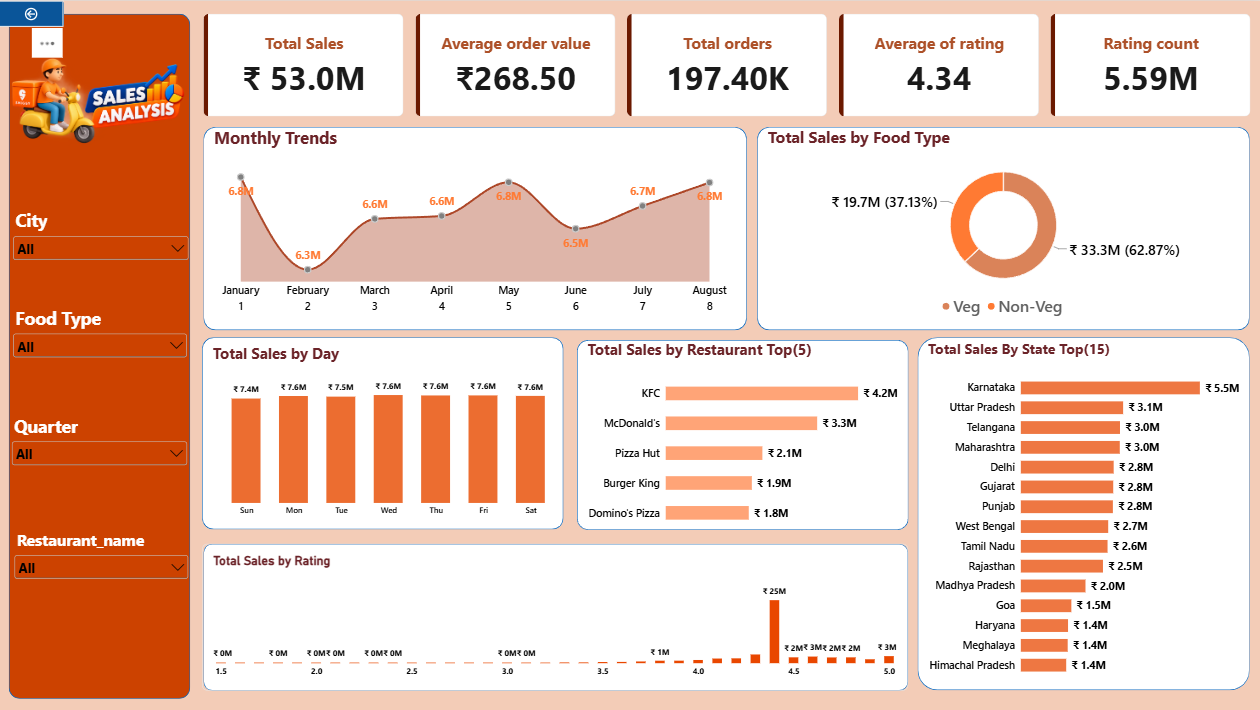

The dashboard page shown, as its layout file describes it:
{"tool":"powerbi","page":{"name":"Page 1","canvas":[1920,1080],"ordinal":0},"visuals":[{"type":"shape","box":[1154,191.4,749.1,309.2],"z":0},{"type":"shape","box":[16.5,20.6,275.8,1041.5],"z":1000},{"type":"cardVisual","fields":{"Data":["fact_swiggy_orders.Total Sales","fact_swiggy_orders.Average order value","fact_swiggy_orders.Total orders","Avg(fact_swiggy_orders.rating)","fact_swiggy_orders.Rating count"]},"box":[311,20.2,1592,156.4],"z":2000},{"type":"shape","box":[311,191.4,826.4,309.2],"z":3000},{"type":"areaChart","title":"Monthly Trends","fields":{"Category":["dim_date.month","dim_date.month_name"],"Y":["fact_swiggy_orders.Total Sales"]},"box":[311,176.7,826.4,323.9],"z":4000},{"type":"donutChart","title":" Total Sales by Food Type","fields":{"Category":["dim_dish.Total Sales by Food Type"],"Y":["fact_swiggy_orders.Total Sales"]},"box":[1154,176.7,749.1,323.9],"z":5000},{"type":"shape","box":[310.8,512.5,549.6,292.3],"z":6000},{"type":"actionButton","box":[0,0,100,40],"z":7000},{"type":"columnChart","title":"Total Sales by Day","fields":{"Category":["dim_date.day"],"Y":["fact_swiggy_orders.Total Sales"]},"box":[310.8,506.3,568.1,298.5],"z":7001},{"type":"shape","box":[879.8,515.3,504.3,289],"z":7002},{"type":"clusteredBarChart","title":"Total Sales by Restaurant Top(5)","fields":{"Category":["dim_restaurant.restaurant_name"],"Y":["fact_swiggy_orders.Total Sales"]},"box":[880,500,503.3,325],"z":7003},{"type":"shape","box":[1398.3,511.7,505,536.7],"z":7004},{"type":"clusteredBarChart","title":"Total Sales By State Top(15)","fields":{"Category":["dim_location.state"],"Y":["fact_swiggy_orders.Total Sales"]},"box":[1398.3,500,505,548.3],"z":7005},{"type":"shape","box":[311.7,825,1071.7,223.3],"z":7006},{"type":"columnChart","title":"Total Sales by Rating","fields":{"Category":["fact_swiggy_orders.rating"],"Y":["fact_swiggy_orders.Total Sales"]},"box":[310,825,1073.3,223.3],"z":7007},{"type":"slicer","fields":{"Values":["dim_location.city"]},"box":[18,316,276,92],"z":7009},{"type":"slicer","fields":{"Values":["dim_dish.Total Sales by Food Type"]},"box":[18,464,274,78],"z":7010},{"type":"slicer","fields":{"Values":["dim_date.quarter"]},"box":[16,628,276,98],"z":7011},{"type":"slicer","fields":{"Values":["dim_restaurant.restaurant_name"]},"box":[20,804,274,98],"z":7012},{"type":"image","box":[8,0,286,300],"z":7013}]}

Visuals, with their boxes on the page's 1920x1080 design canvas (x1, y1, x2, y2). These are canvas units, not pixel positions in the 1260x710 screenshot, which may show the page scaled, cropped or inside an application window:
shape: [left=1154, top=191, right=1903, bottom=501]
shape: [left=16, top=21, right=292, bottom=1062]
cardVisual - fact_swiggy_orders.Total Sales x fact_swiggy_orders.Average order value: [left=311, top=20, right=1903, bottom=177]
shape: [left=311, top=191, right=1137, bottom=501]
"Monthly Trends" areaChart: [left=311, top=177, right=1137, bottom=501]
" Total Sales by Food Type" donutChart: [left=1154, top=177, right=1903, bottom=501]
shape: [left=311, top=512, right=860, bottom=805]
actionButton: [left=0, top=0, right=100, bottom=40]
"Total Sales by Day" columnChart: [left=311, top=506, right=879, bottom=805]
shape: [left=880, top=515, right=1384, bottom=804]
"Total Sales by Restaurant Top(5)" clusteredBarChart: [left=880, top=500, right=1383, bottom=825]
shape: [left=1398, top=512, right=1903, bottom=1048]
"Total Sales By State Top(15)" clusteredBarChart: [left=1398, top=500, right=1903, bottom=1048]
shape: [left=312, top=825, right=1383, bottom=1048]
"Total Sales by Rating" columnChart: [left=310, top=825, right=1383, bottom=1048]
slicer - dim_location.city: [left=18, top=316, right=294, bottom=408]
slicer - dim_dish.Total Sales by Food Type: [left=18, top=464, right=292, bottom=542]
slicer - dim_date.quarter: [left=16, top=628, right=292, bottom=726]
slicer - dim_restaurant.restaurant_name: [left=20, top=804, right=294, bottom=902]
image: [left=8, top=0, right=294, bottom=300]
